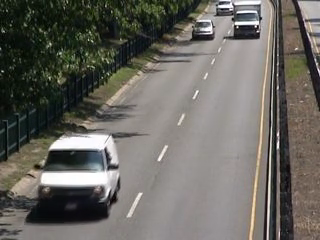car: (192, 18, 216, 43), (215, 1, 236, 18)
truck: (28, 131, 123, 221), (232, 2, 263, 41)
